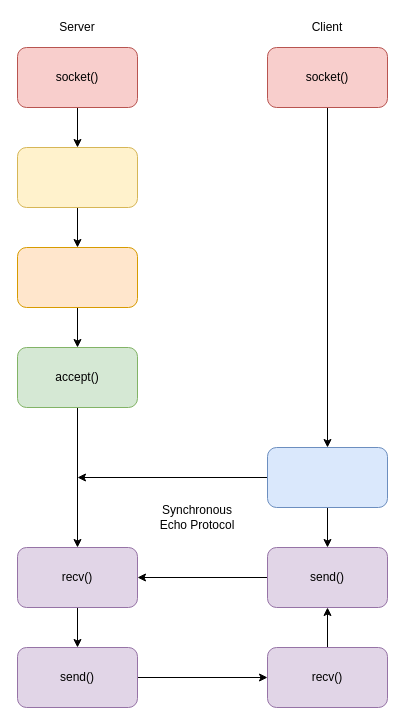
The diagram is 405 pixels wide and 725 high, and some of its shapes have lost their labels. Here are the shapes that lost their labels. From the top down, the centre of each, then its label:
pixel 77 177: bind()
pixel 77 277: listen()
pixel 327 477: connect()
